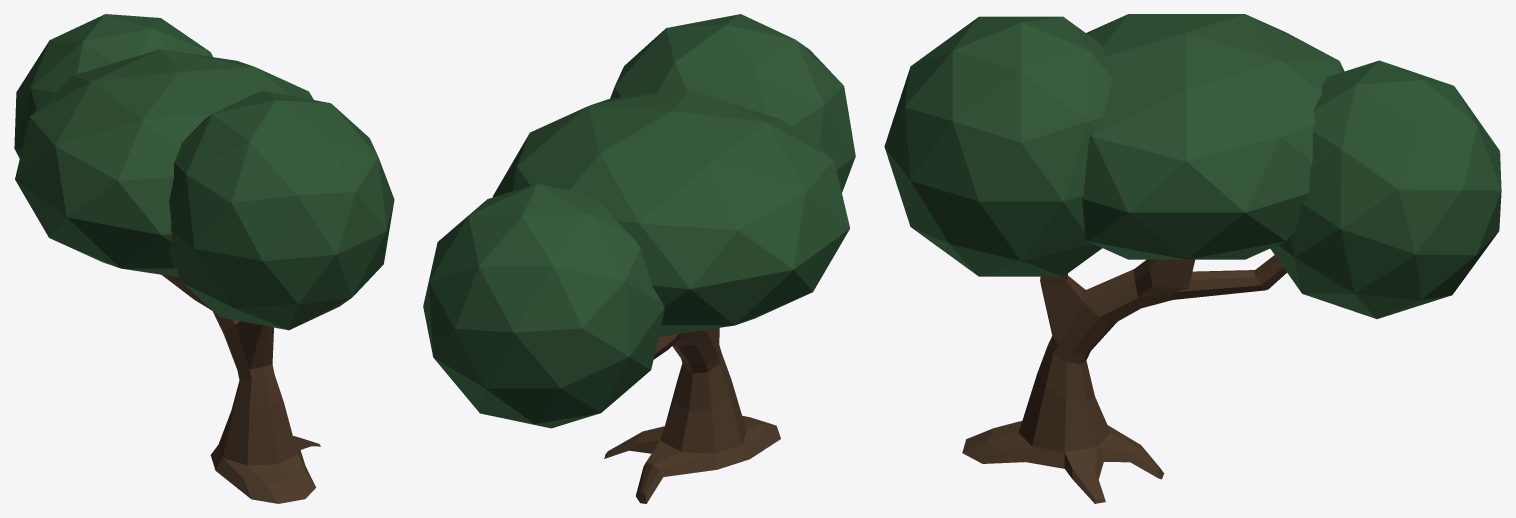
The model's file is Tree9.fbx.
3 views of the same model, side by side, from view 1: azimuth 30°, elevation 25°; view 2: azimuth 150°, elevation 25°; view 3: azimuth 270°, elevation 25° (orthographic). The views are drawn at different scales.
Visible parts, largest first — view 1: Cylinder.008; view 2: Cylinder.008; view 3: Cylinder.008.
Boxes of the visible parts, x1,y1,x2,y2 form: Cylinder.008: (14, 14, 394, 503); Cylinder.008: (423, 14, 855, 503); Cylinder.008: (884, 14, 1501, 503).
Size of the model in its own units: 424 by 583 by 729.
